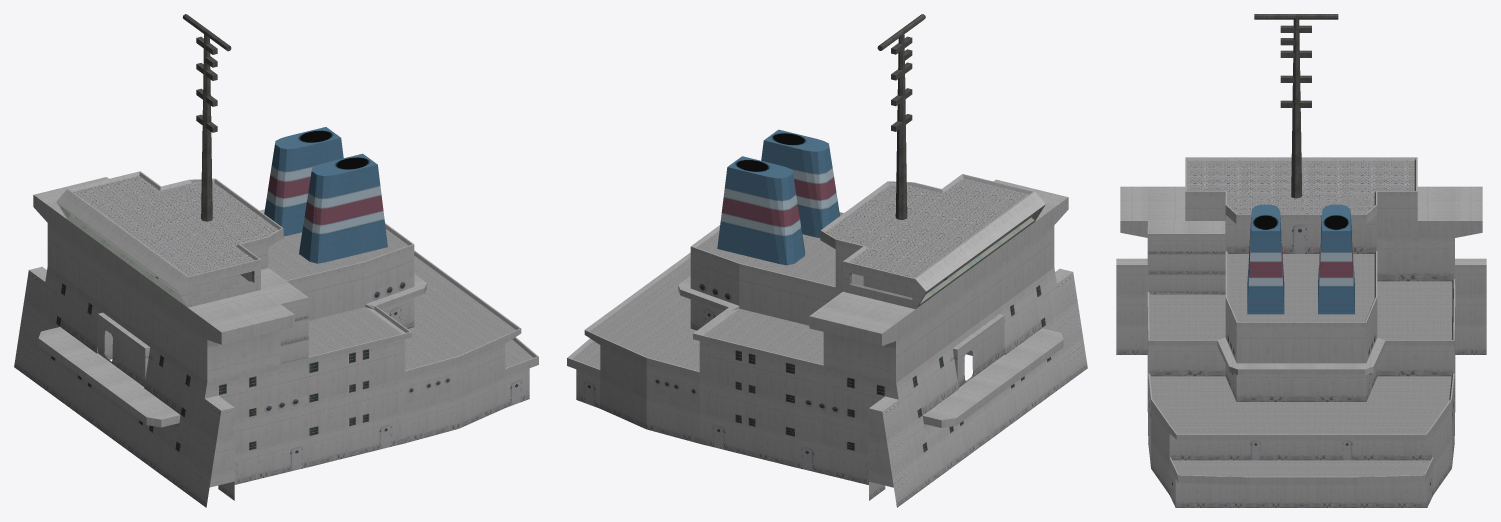
The model's file is freight_sfw31.obj.
3 renders of one model, left to right at view 1: azimuth 30°, elevation 25°; view 2: azimuth 150°, elevation 25°; view 3: azimuth 270°, elevation 25°, orthographic. The views are drawn at different scales.
Visible parts, largest first — view 1: freight_SFW31; view 2: freight_SFW31; view 3: freight_SFW31.
Part boxes in pixels (x1,y1,x2,y2): freight_SFW31: (14,14,538,507); freight_SFW31: (567,14,1087,507); freight_SFW31: (1116,14,1486,507).
Bounding box in the file's own units: 39.87 × 38.14 × 34.41.
Materials: 9 (9 with a texture image).
